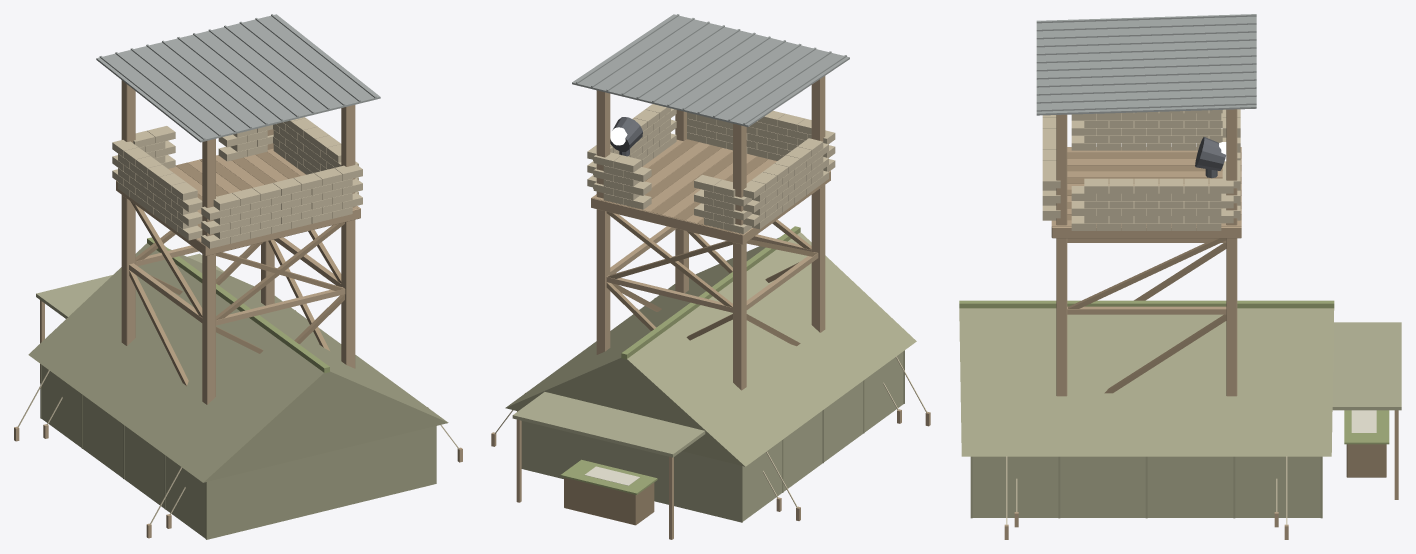
File: hollis_camp.glb
3 views of the same model, side by side, from view 1: azimuth 30°, elevation 25°; view 2: azimuth 150°, elevation 25°; view 3: azimuth 270°, elevation 25° (orthographic). The views are drawn at different scales.
Parts seen in each view (by area): view 1: mt_tent_cmd_mesh, mt_tower_mesh; view 2: mt_tent_cmd_mesh, mt_tower_mesh; view 3: mt_tent_cmd_mesh, mt_tower_mesh.
Boxes of the visible parts, box(x1,y1,x2,y2) form: mt_tent_cmd_mesh: box(14, 237, 462, 539); mt_tower_mesh: box(96, 14, 380, 404); mt_tent_cmd_mesh: box(491, 226, 930, 539); mt_tower_mesh: box(572, 14, 849, 390); mt_tent_cmd_mesh: box(959, 300, 1401, 539); mt_tower_mesh: box(1036, 14, 1256, 396).
Bounding box in the file's own units: 7.68 × 8.82 × 8.85.
